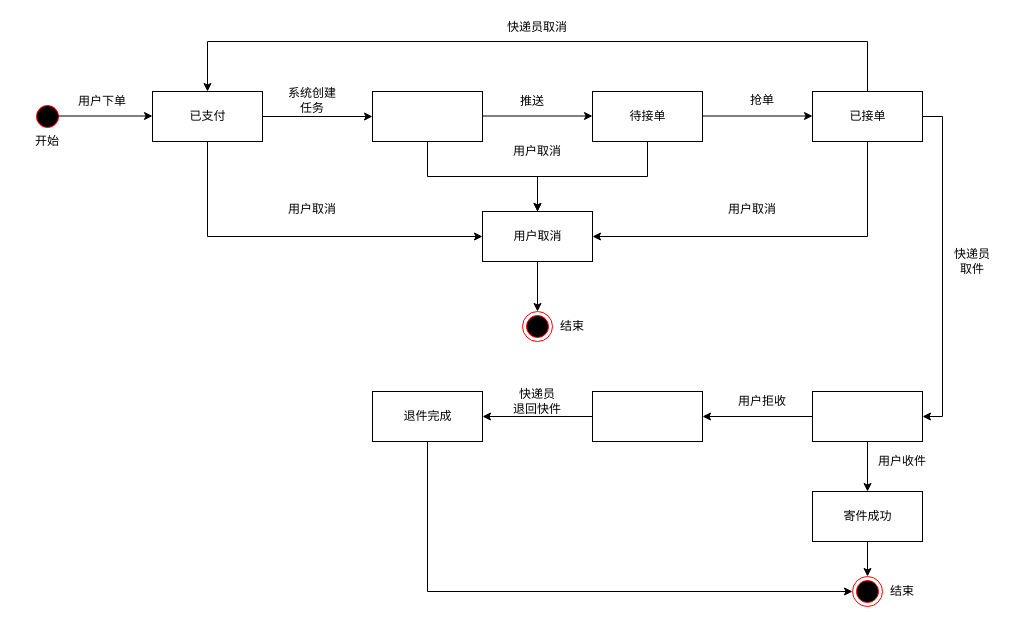
The diagram is 1019 pixels wide and 624 high, and some of its shapes have lost their labels. Each missing label, with the centre of its shape:
寄件中: point (867, 416)
待推送订单信息: point (427, 116)
退件中: point (647, 416)
